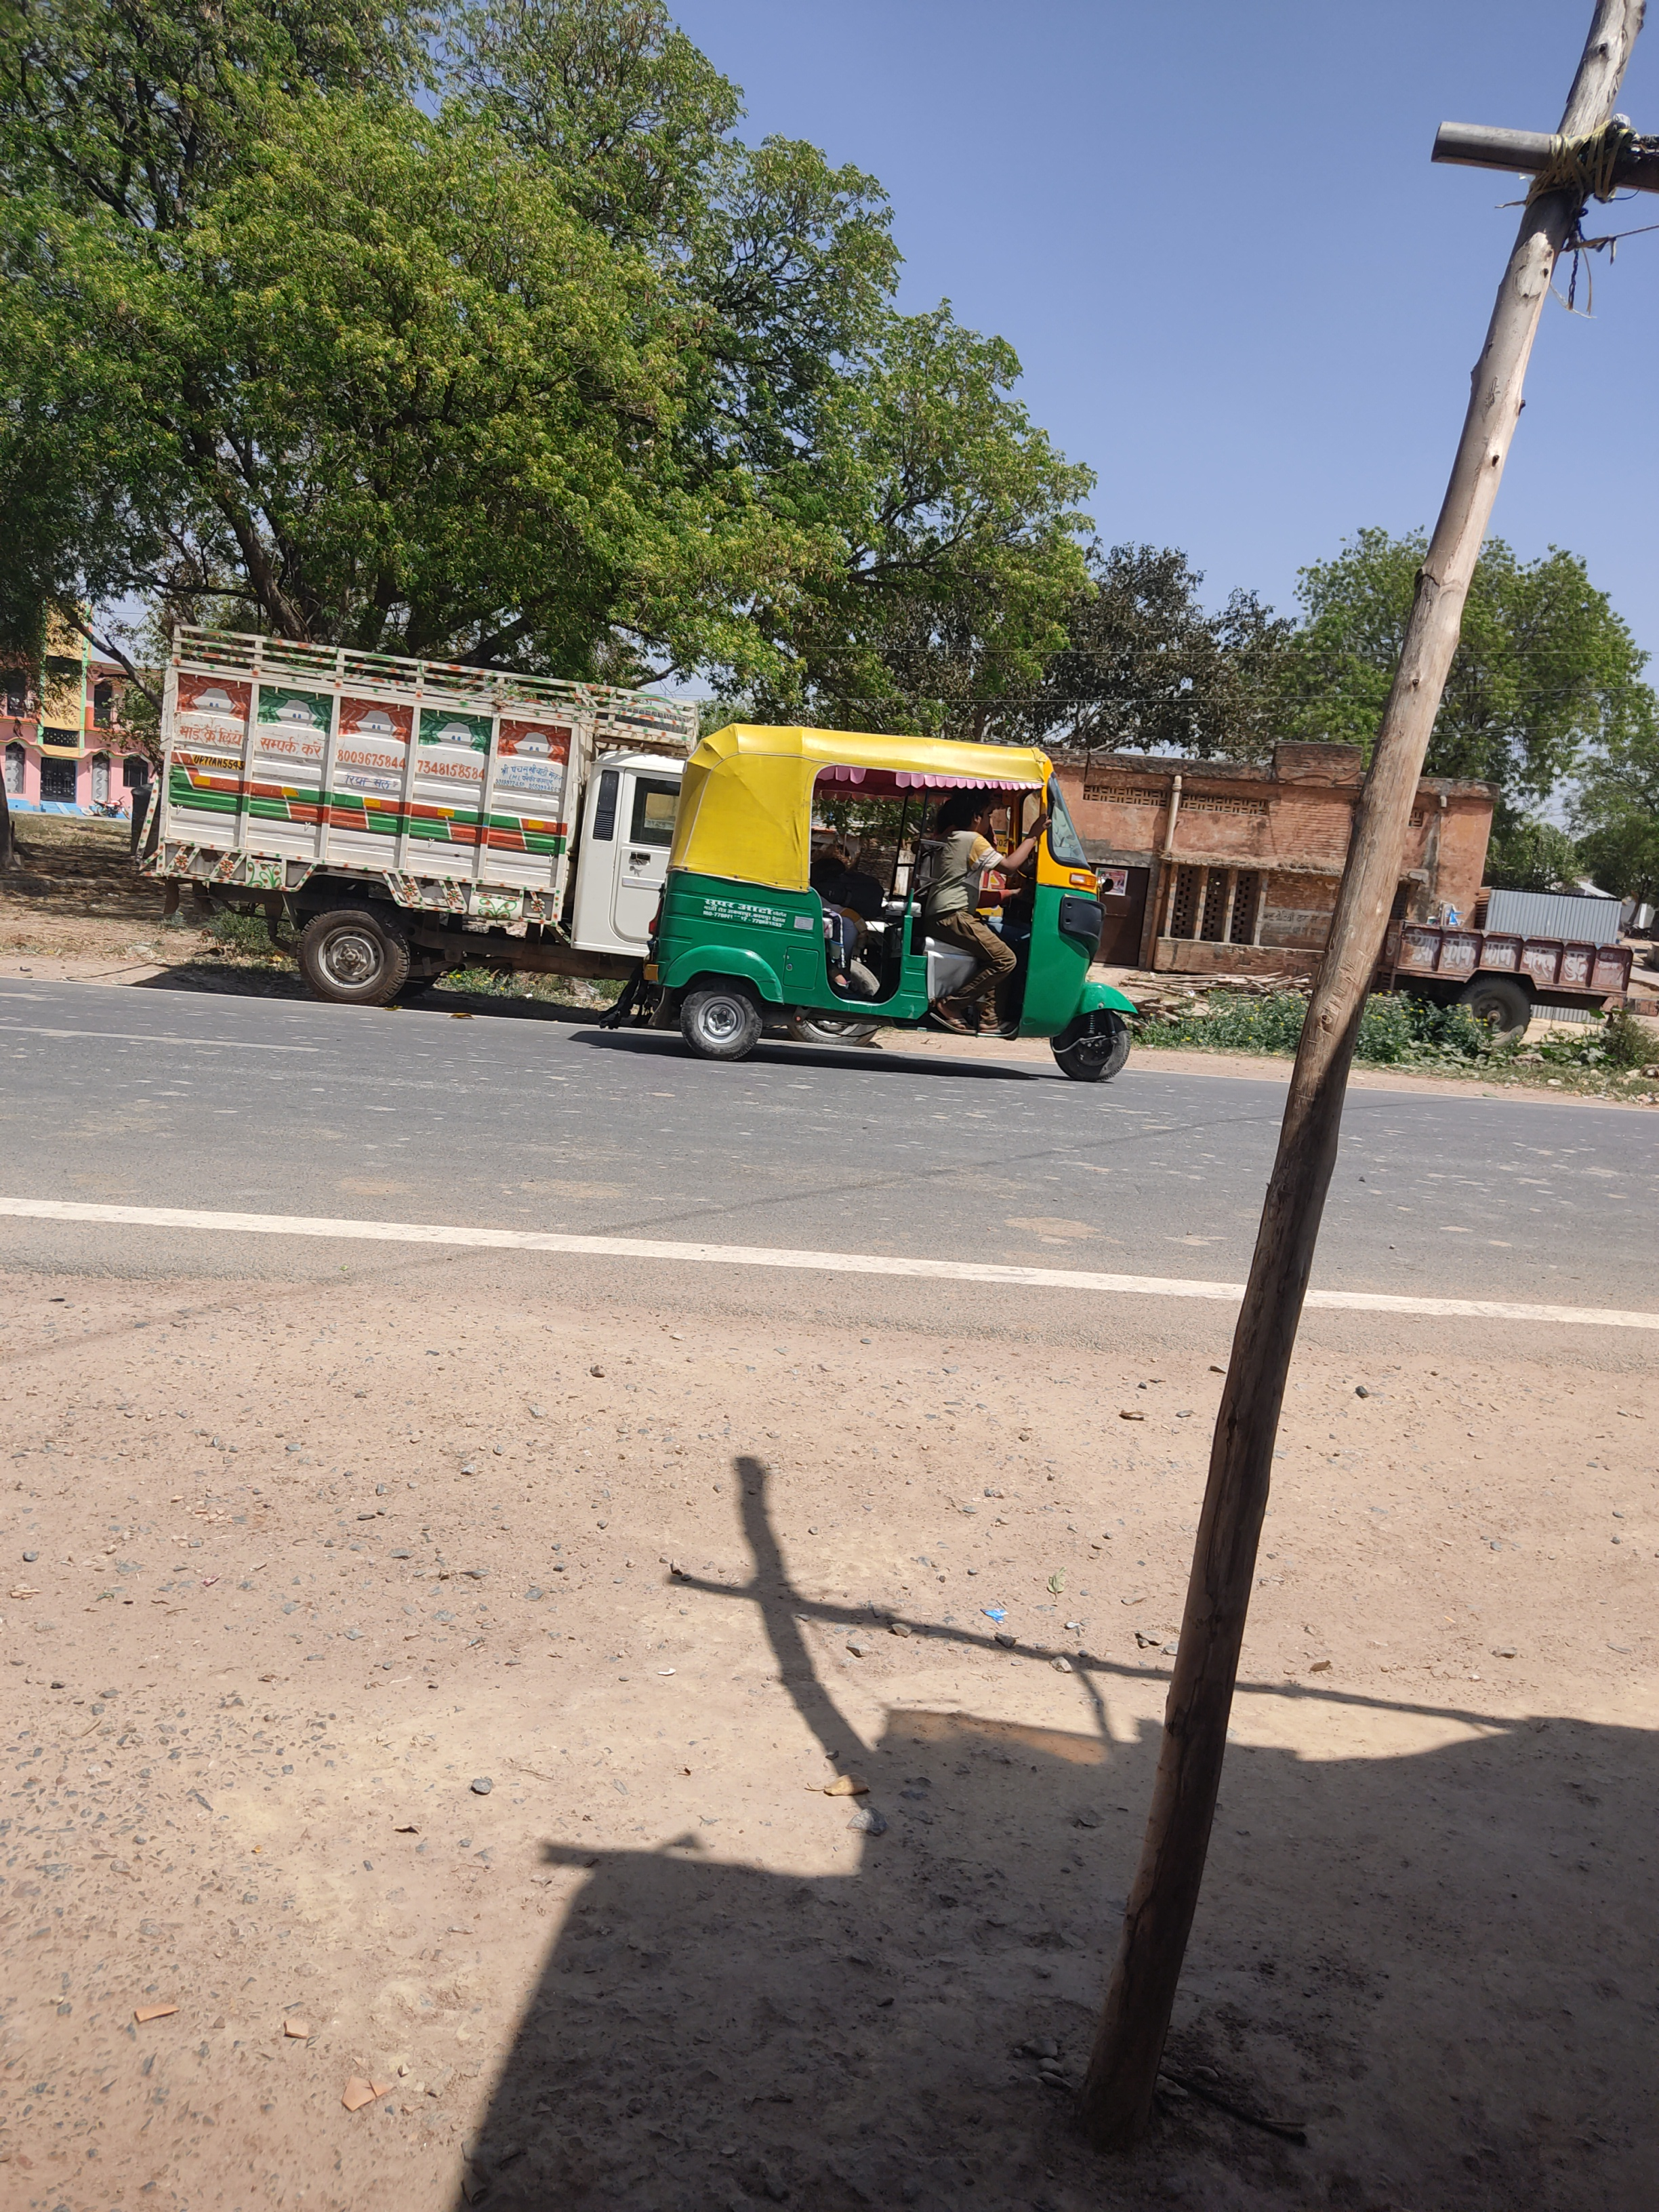auto: (648, 725, 1140, 1080)
tractor: (1375, 928, 1659, 1050)
vehicle_truck: (150, 624, 711, 1003)
